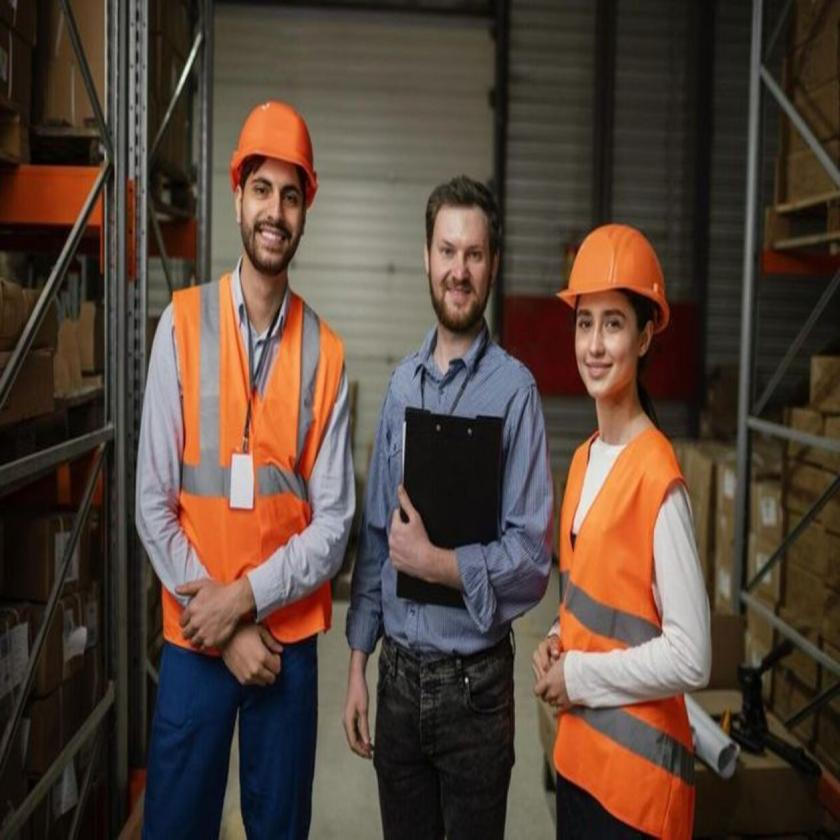Con_casco: (565, 219, 675, 442), (227, 95, 323, 319)
Sin_casco: (419, 174, 505, 376)
